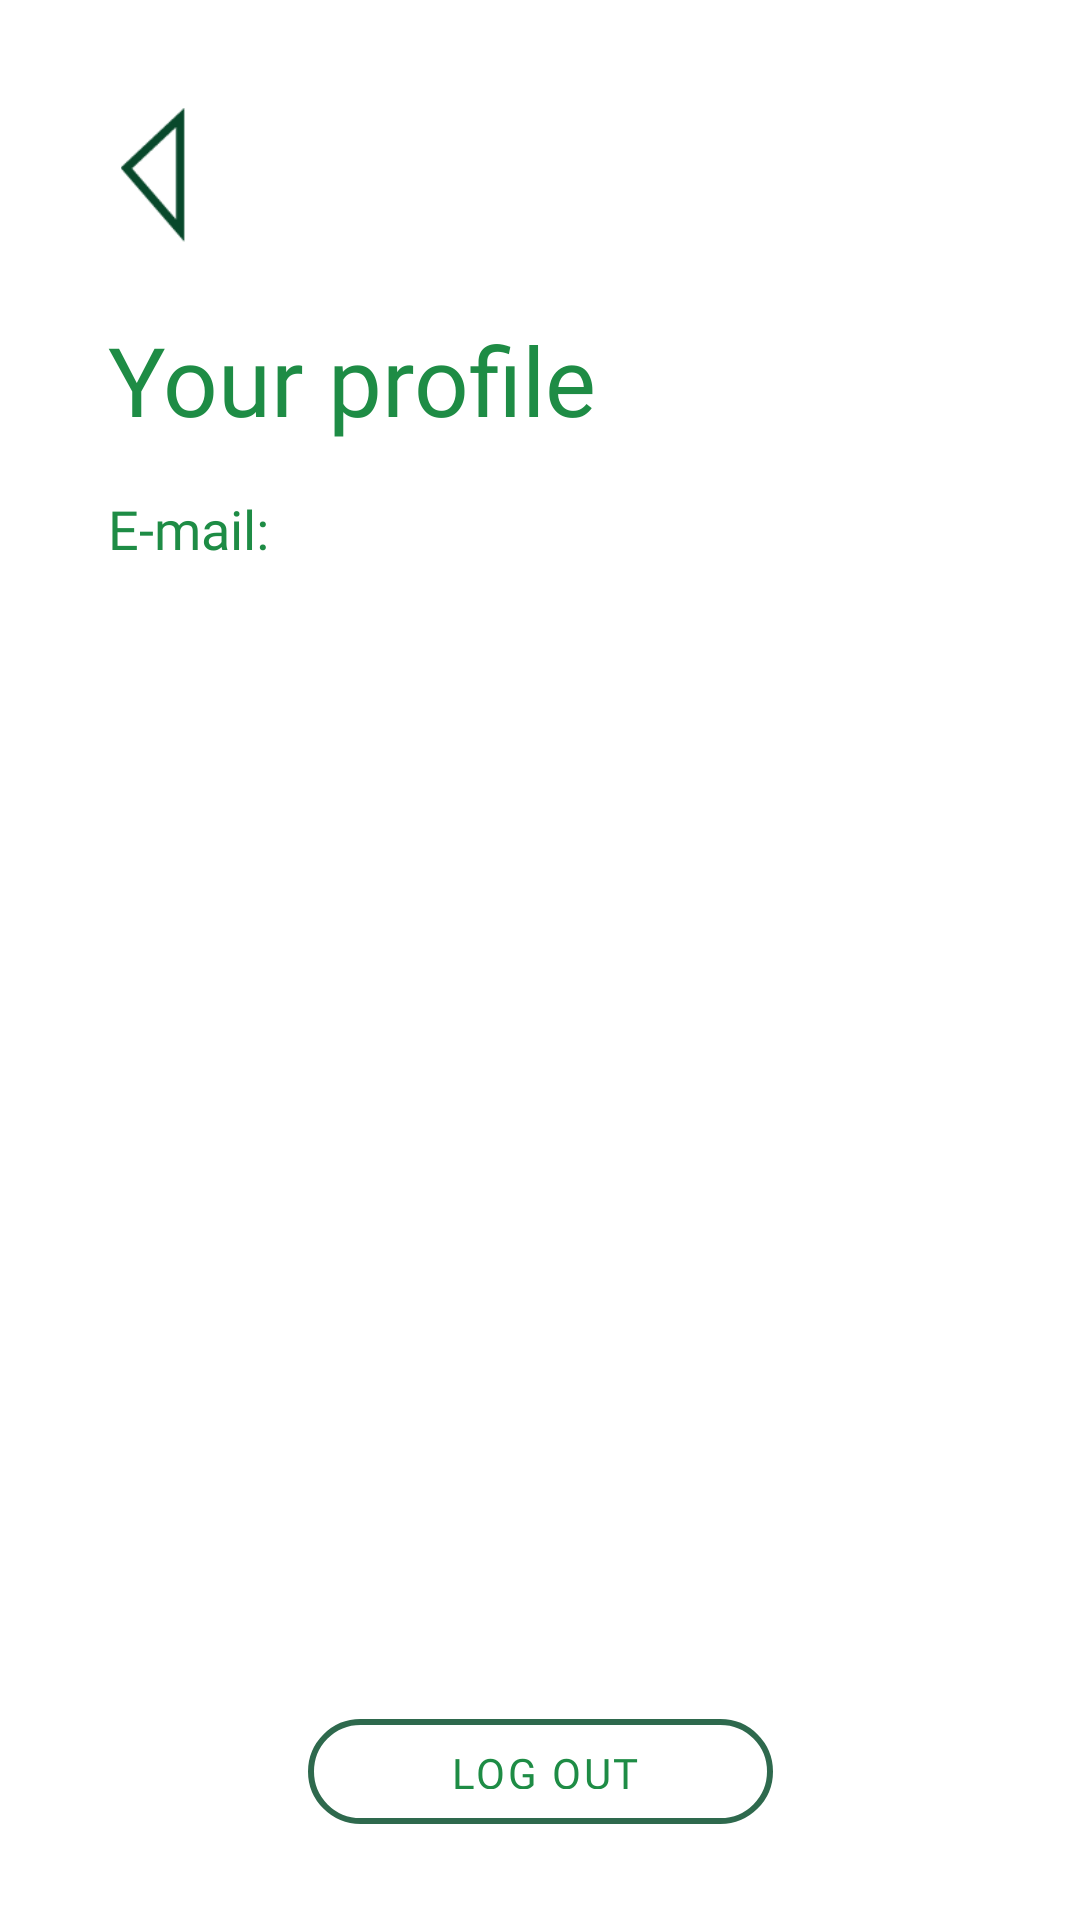

Screen size 1080x1920. Icon name, then its box in pixels as (x1, y1, x2, y2):
back: (121, 108, 185, 242)
